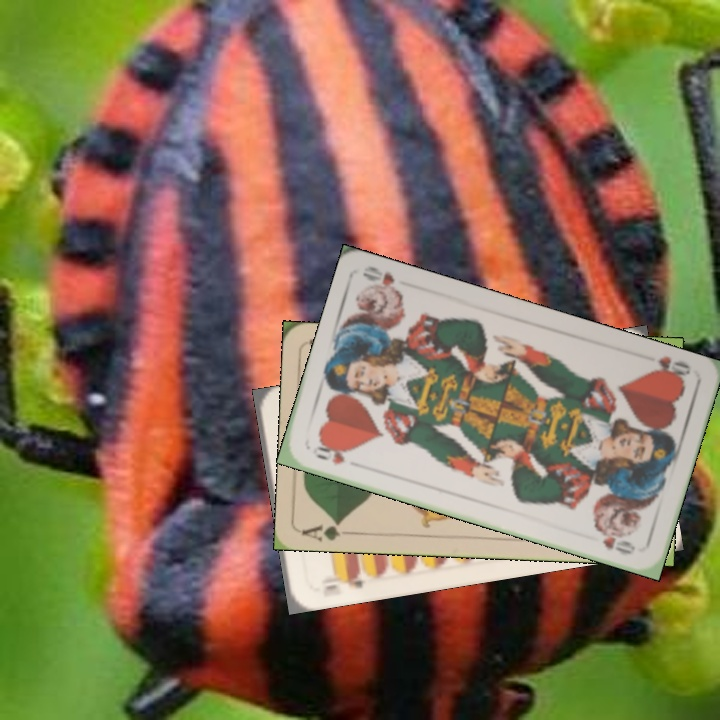E10: (318, 567, 366, 593)
GA: (299, 516, 358, 543)
HO: (646, 352, 693, 385), (312, 439, 349, 467)
